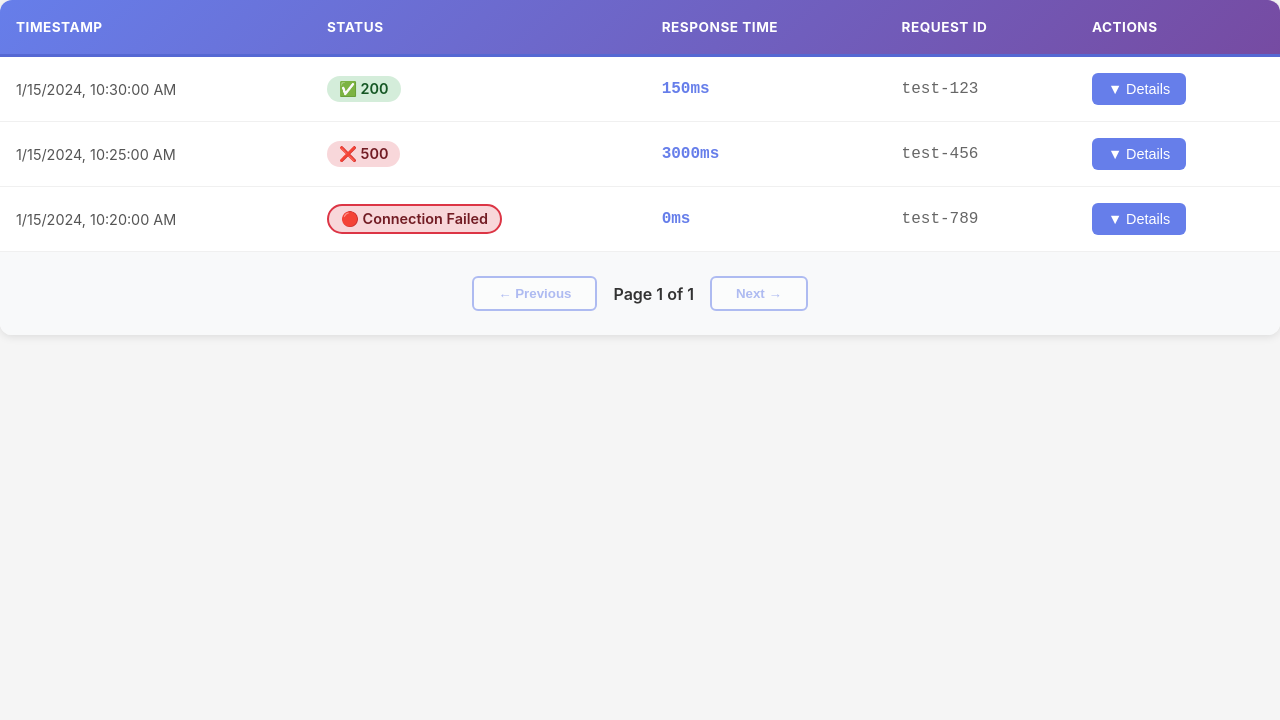
ResponseTable Component › should show error section when error exists
Note: Expand the row with error
Click the button "▼ Details" in the row of "1/15/2024, 10:25:00 AM" at (1139, 154), box [1092,138,1186,170]
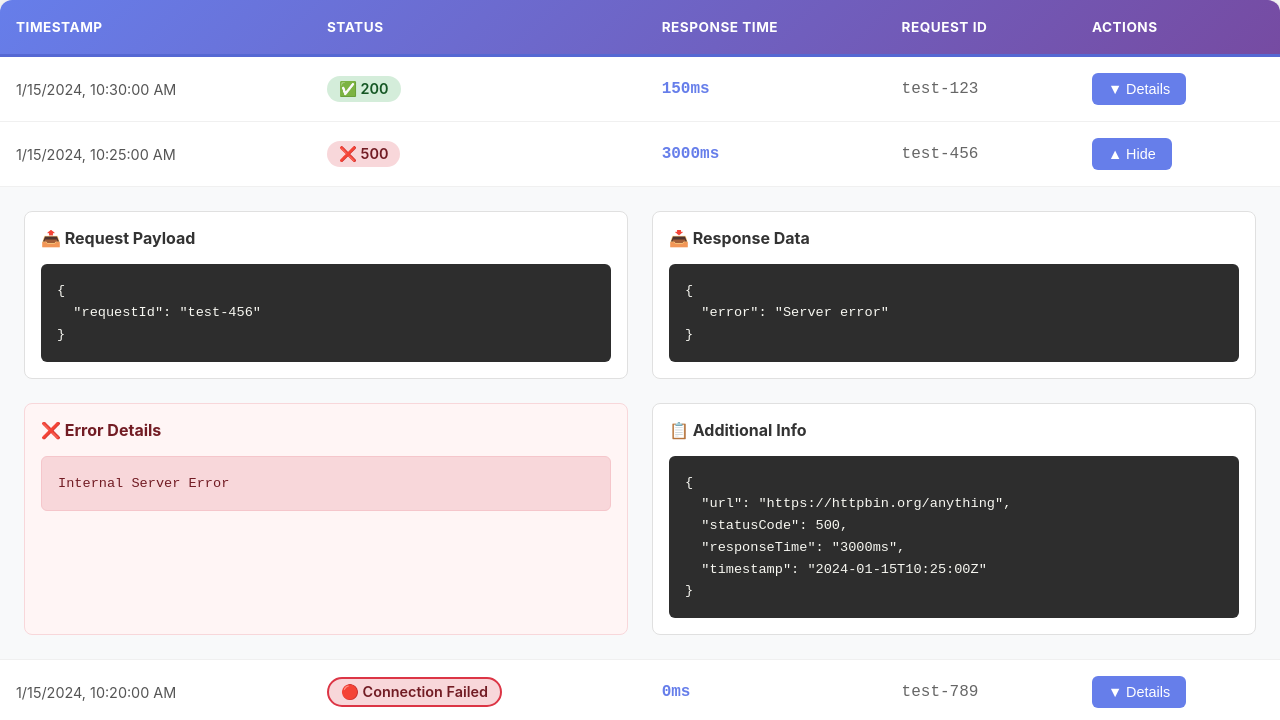
Now the heading "❌ Error Details" is shown, box [41,420,161,440]
Now the text "Internal Server Error" is shown, box [41,456,611,511]
